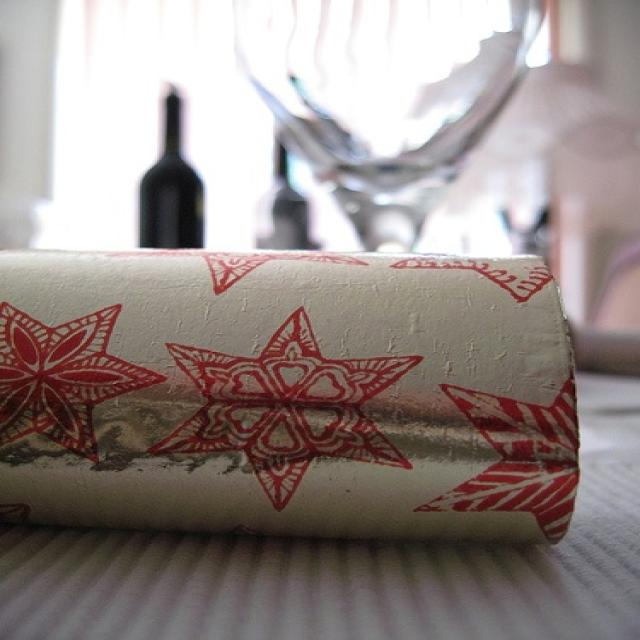bottle: (138, 84, 205, 250), (249, 134, 311, 253)
